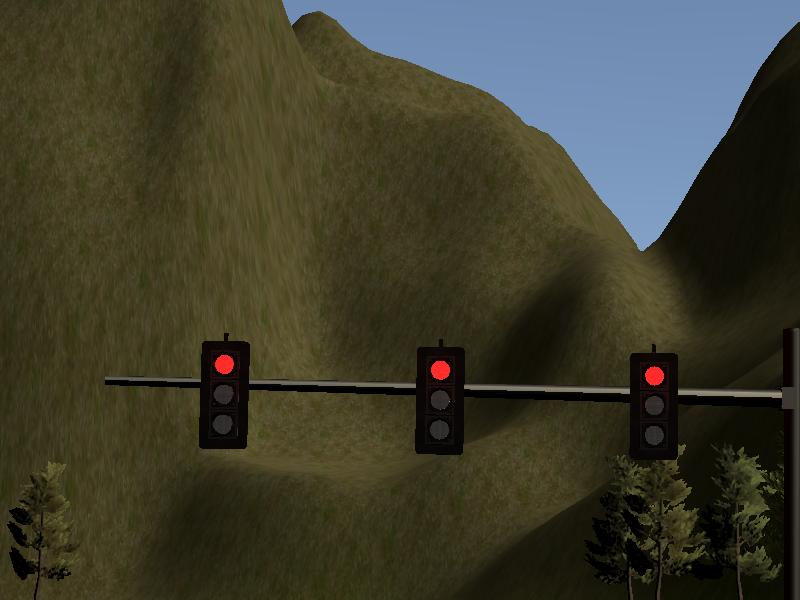red: (200, 342, 247, 449), (417, 347, 464, 454), (630, 351, 677, 458)
